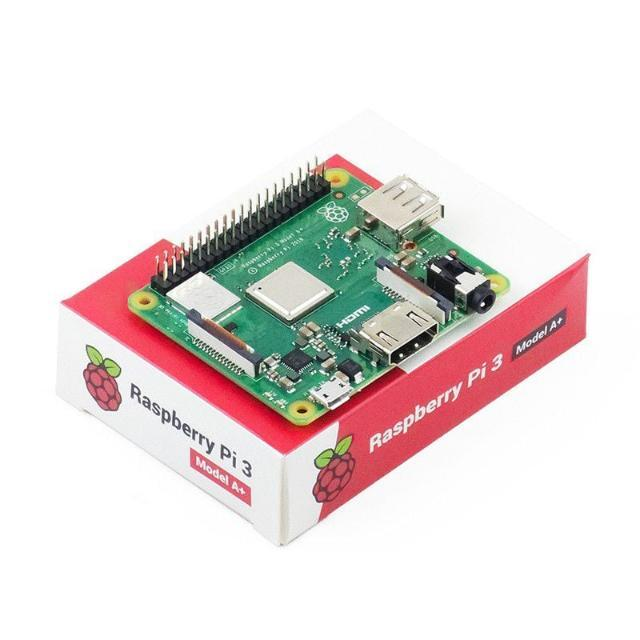Raspberry-Pi-3-A-: (131, 157, 509, 426)
